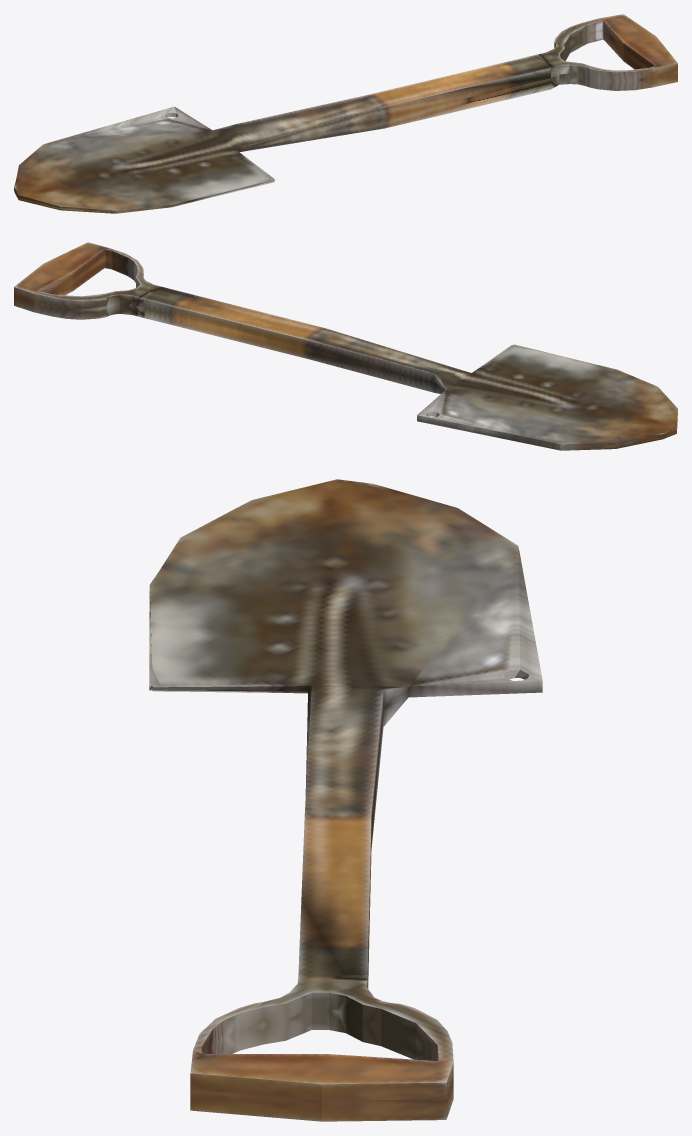
Rendered from Shovel.fbx.
3 renders of one model, top to bottom at view 1: azimuth 30°, elevation 25°; view 2: azimuth 150°, elevation 25°; view 3: azimuth 270°, elevation 25°, orthographic. The views are drawn at different scales.
Visible parts, largest first — view 1: shovel; view 2: shovel; view 3: shovel.
Part boxes in pixels (left/top/right/bottom): shovel: left=14, top=14, right=677, bottom=213; shovel: left=14, top=242, right=677, bottom=450; shovel: left=149, top=479, right=542, bottom=1121.
Bounding box in the file's own units: 211 × 6.85 × 56.76.
Materials: 1 (1 with a texture image).
